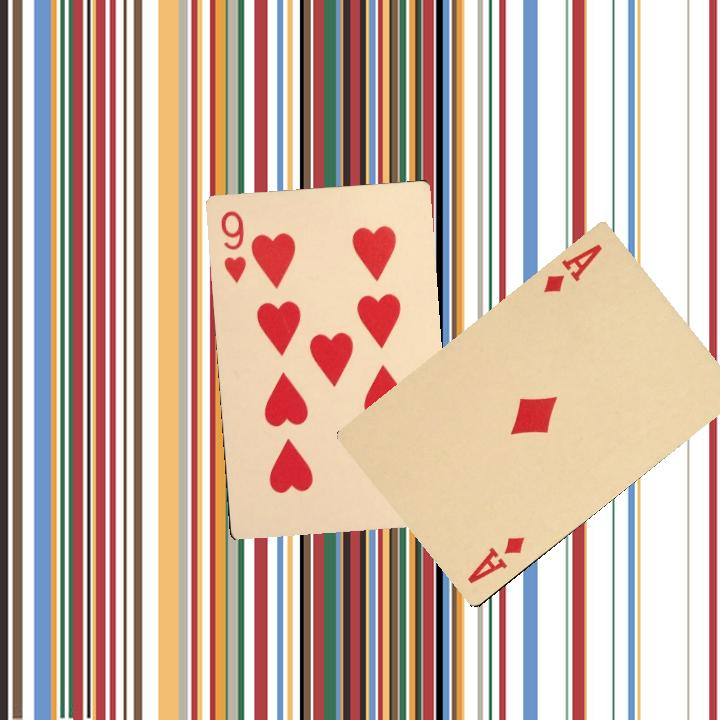9h: (216, 206, 249, 285)
Ad: (540, 239, 605, 296), (463, 532, 528, 587)
